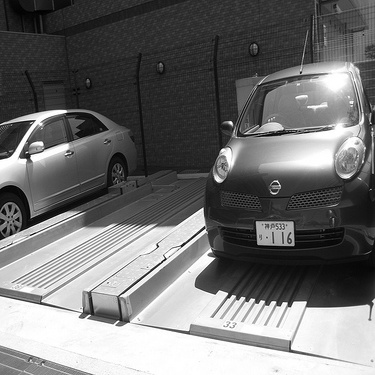car: (191, 38, 373, 279), (1, 98, 136, 226)
